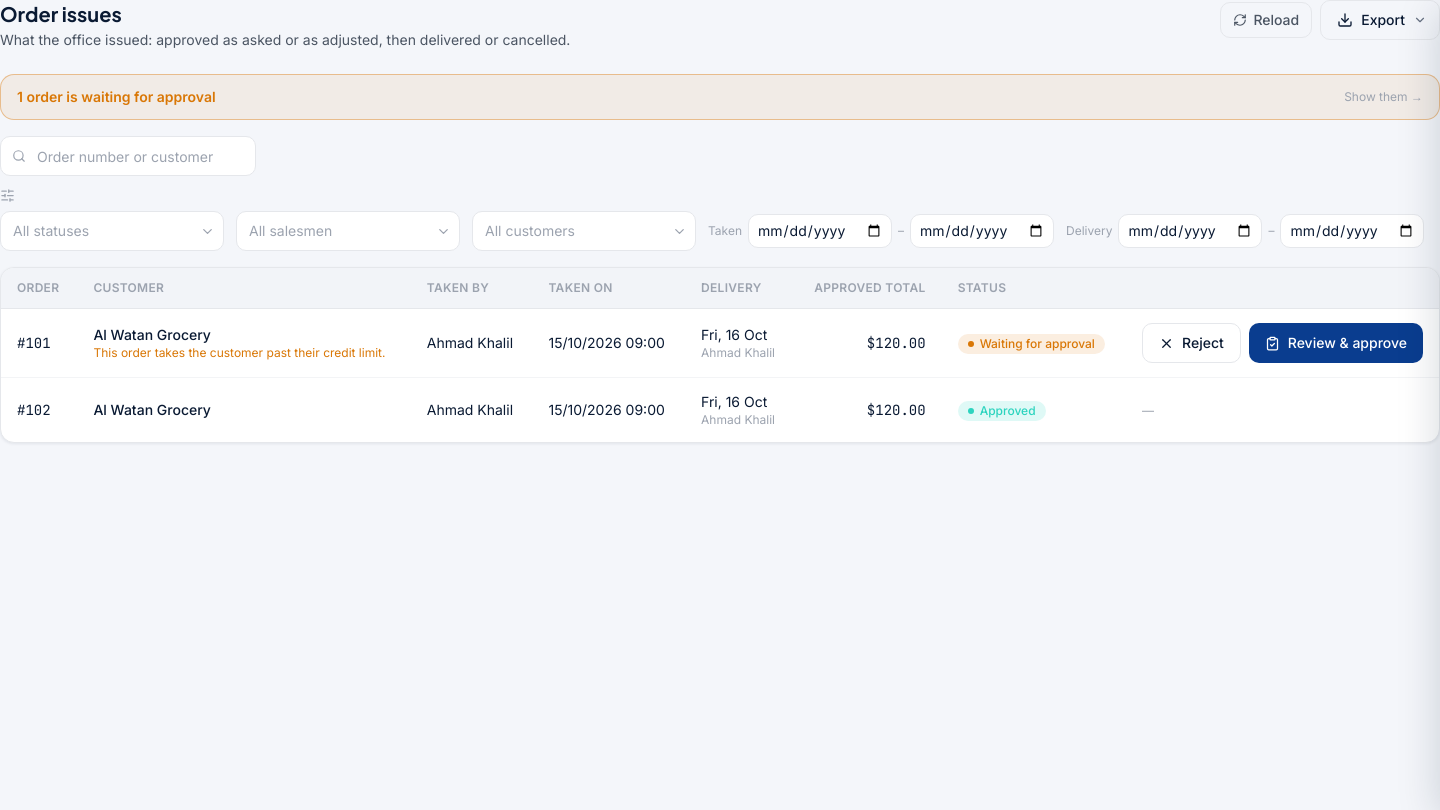
Test: the orders page › waits for the products before showing the lines or letting the order be approved
Click the button "Review & approve" at (1336, 343), box [1249,323,1423,363]
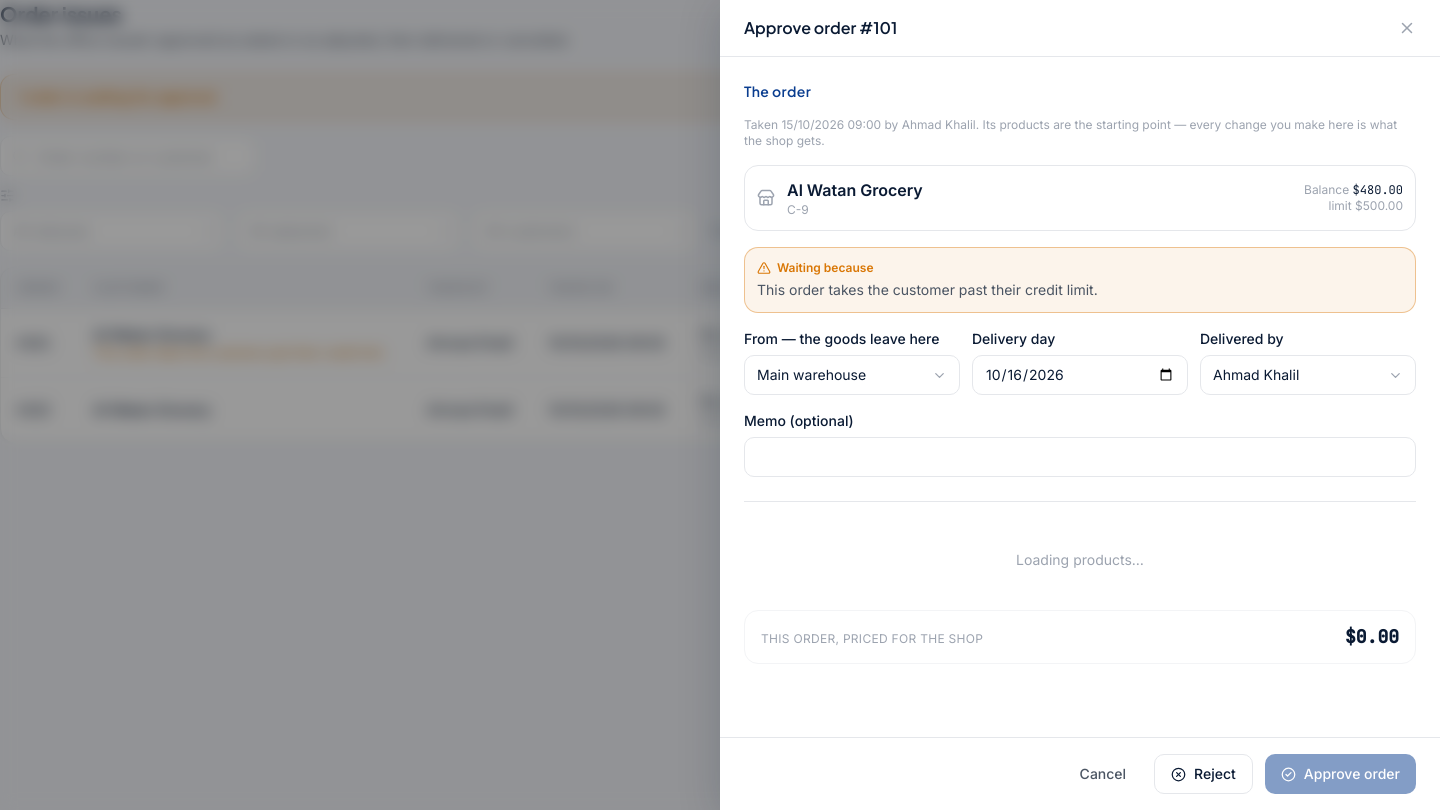
Expected: the button "Approve order" is disabled, [1265,754,1416,794]
Expected: the text "Loading products…" is shown, [1016,551,1144,568]
